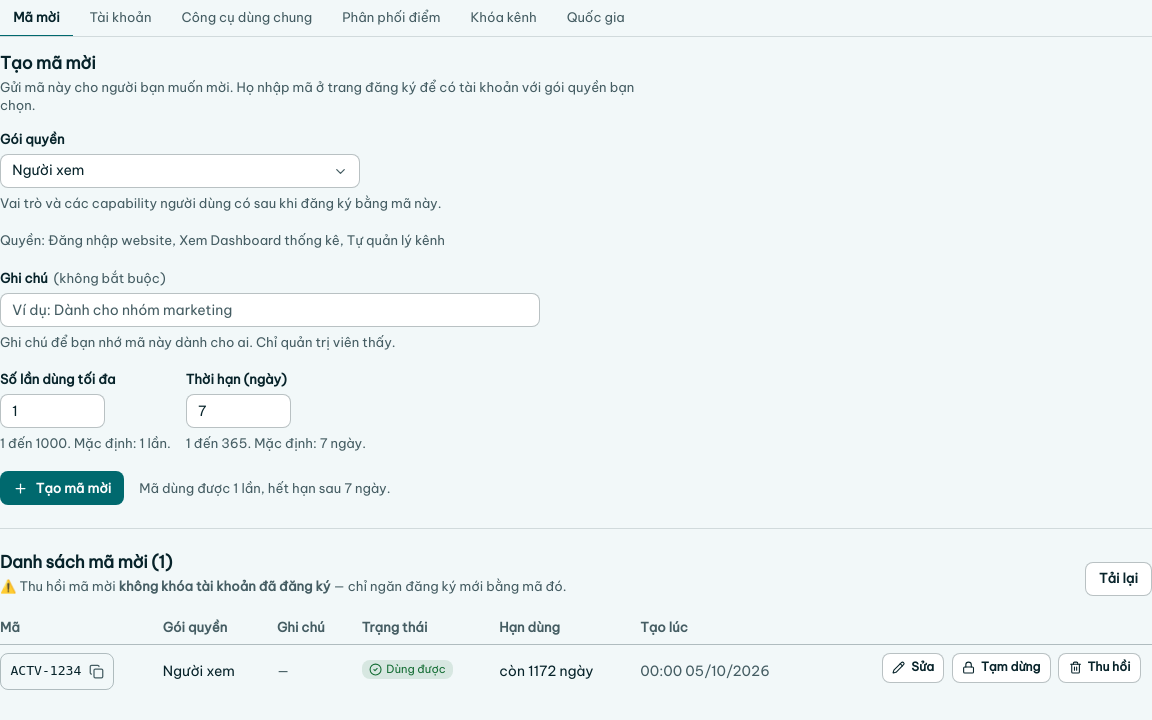
Test: AdminPage — suspend/unsuspend invite key › key active: nút Tạm dừng hiện, xác nhận => gọi PATCH suspend, badge đổi thành Tạm dừng
(page scrolled)
Check: the button "ACTV-1234" is shown, box [0,653,114,690]
Click the button with aria-label "Tạm dừng mã ACTV-1234". click: {"x": 1001, "y": 668}
box: [952,653,1051,683]
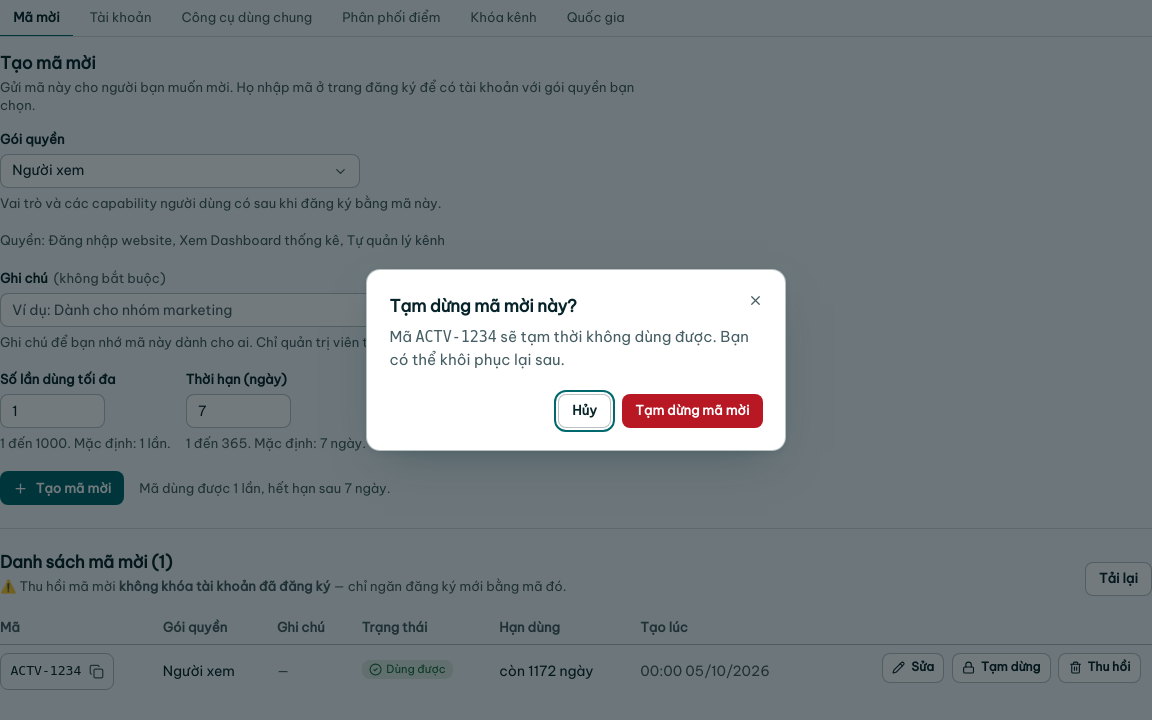
Check: the heading "Tạm dừng mã mời này?" is shown, box [390,294,577,316]
Click the button "Tạm dừng mã mời". click: {"x": 692, "y": 411}
box: [622,394,762,428]
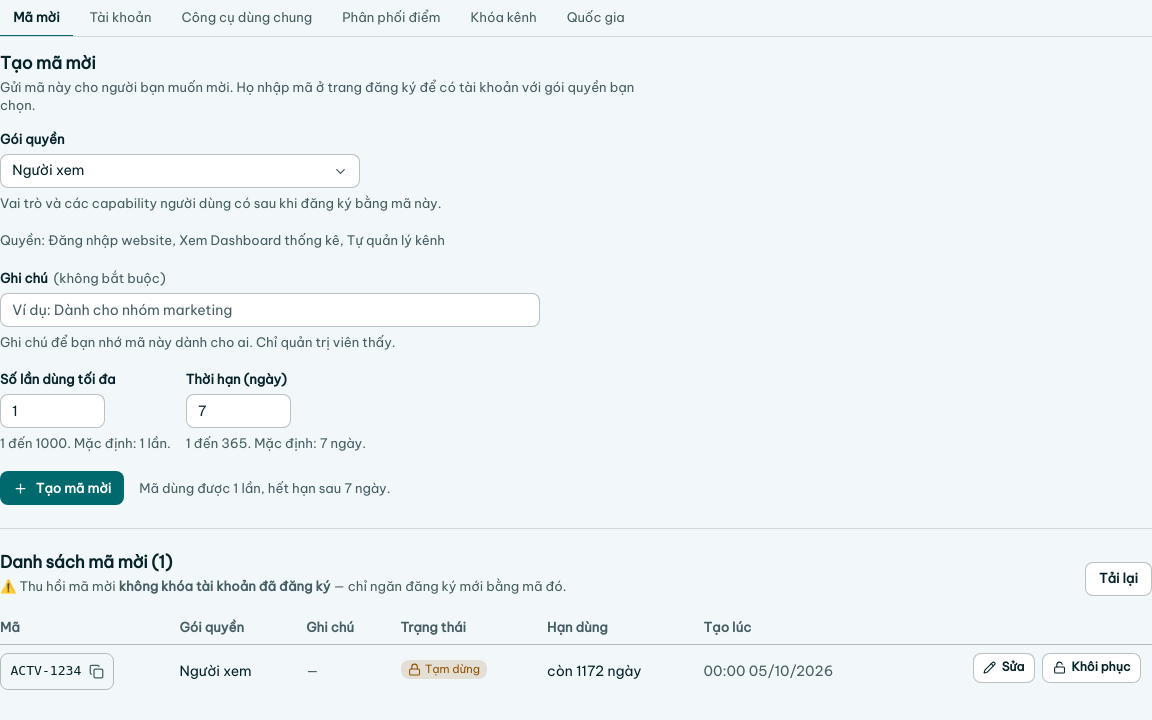
Check: the text "Tạm dừng" is shown, box [400,660,487,679]
